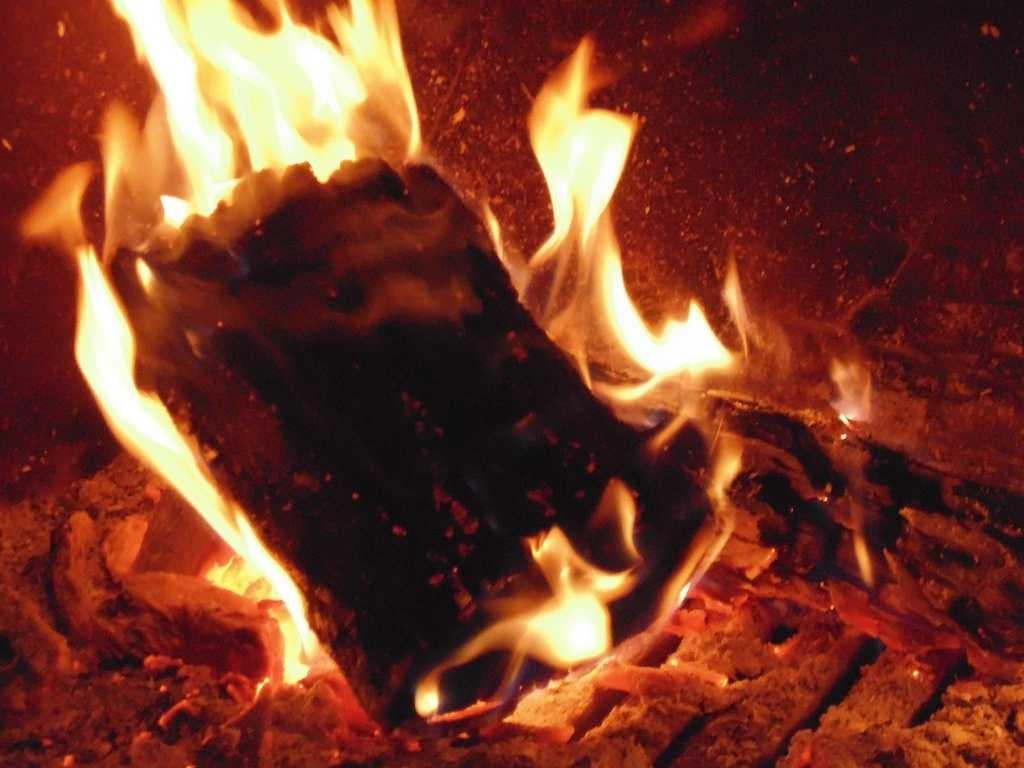fire: (158, 0, 420, 146), (480, 588, 625, 686), (547, 64, 617, 224), (618, 327, 731, 380), (76, 299, 119, 414)
